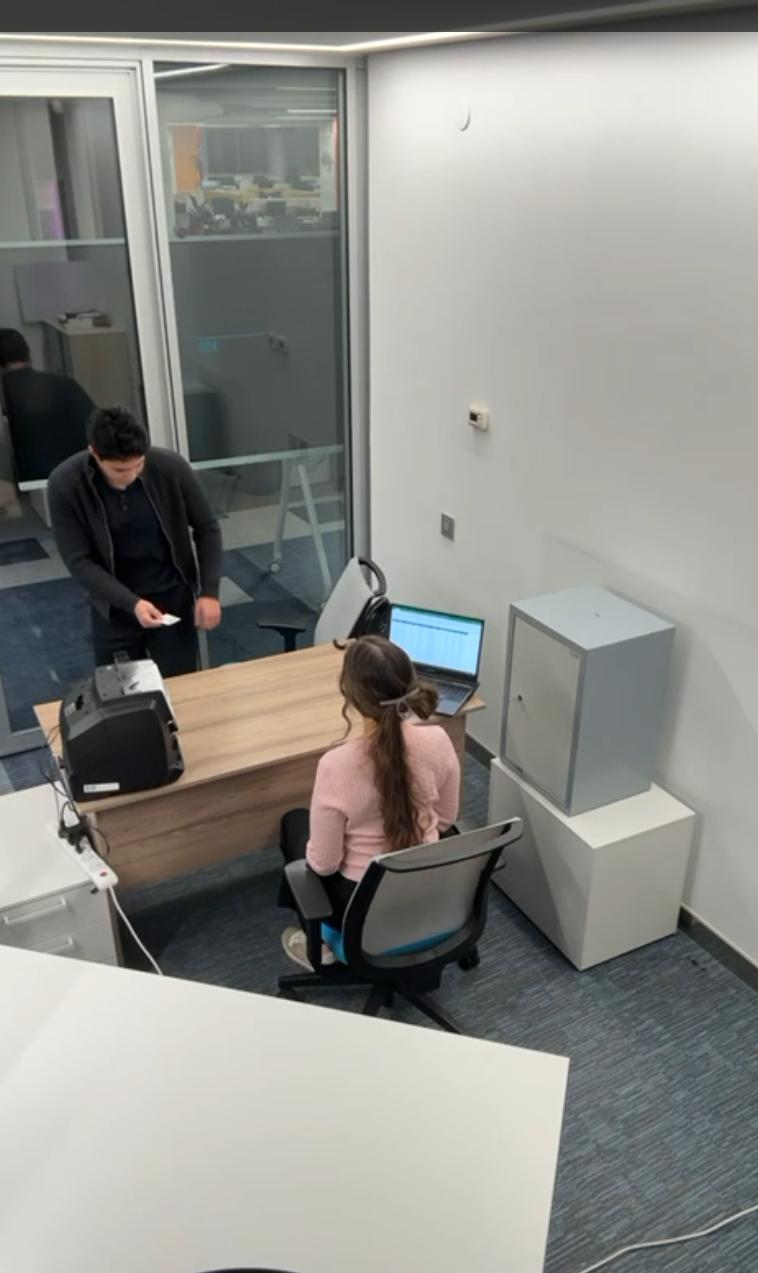counter: (51, 660, 189, 803)
document: (152, 608, 183, 630)
key_in: (500, 690, 531, 722)
screen_on: (391, 618, 479, 669)
